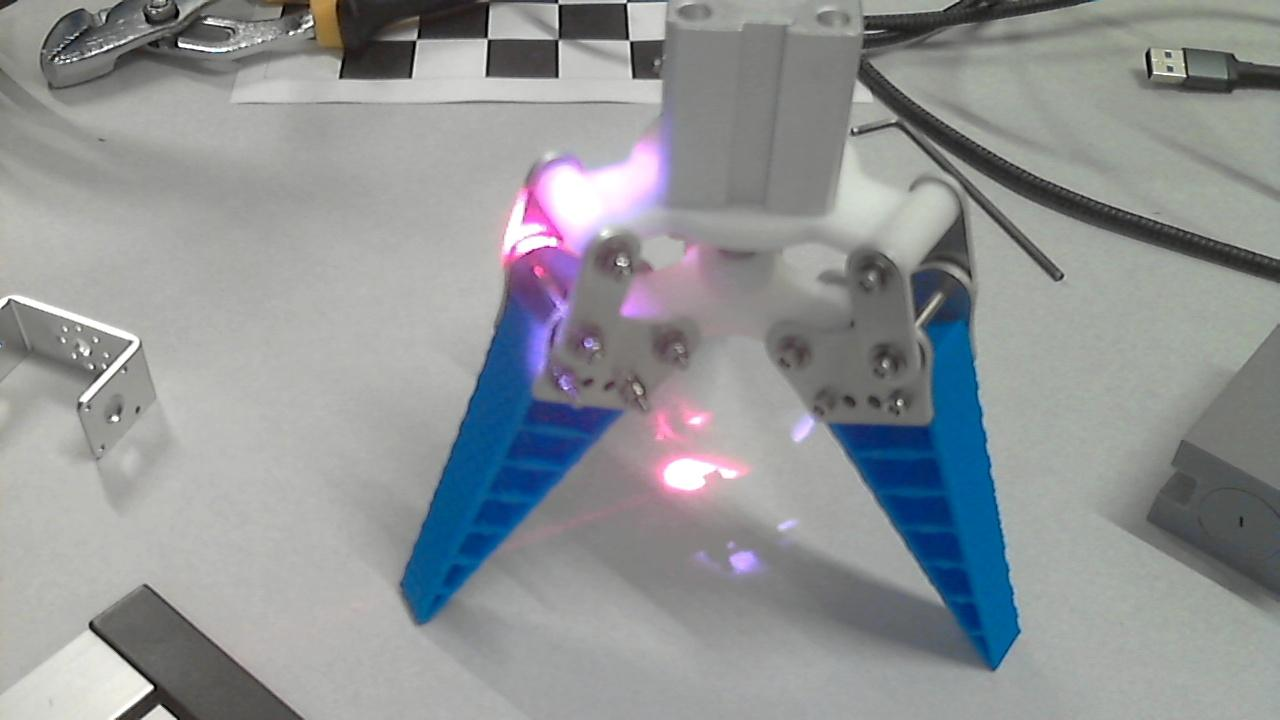Object robotic gripper finger assembly - Material metal - Pdfname Yy6dySnH33wN: (414, 91, 661, 345)
